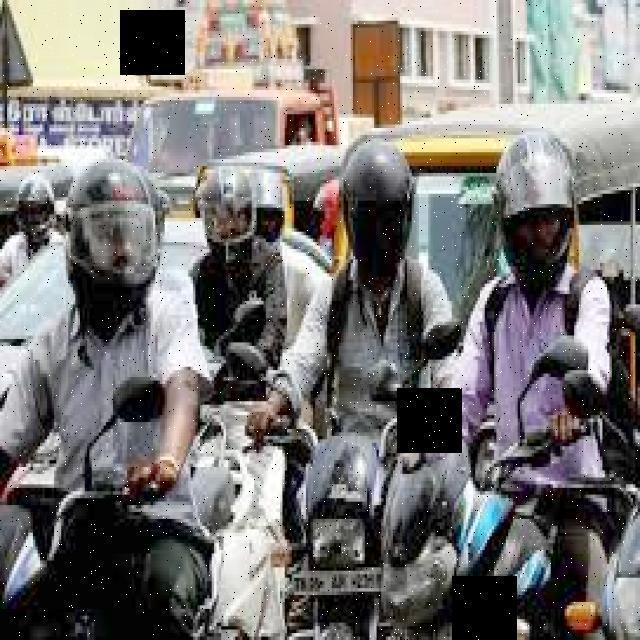helmet: (70, 158, 160, 316), (492, 132, 576, 298), (340, 140, 418, 294)
